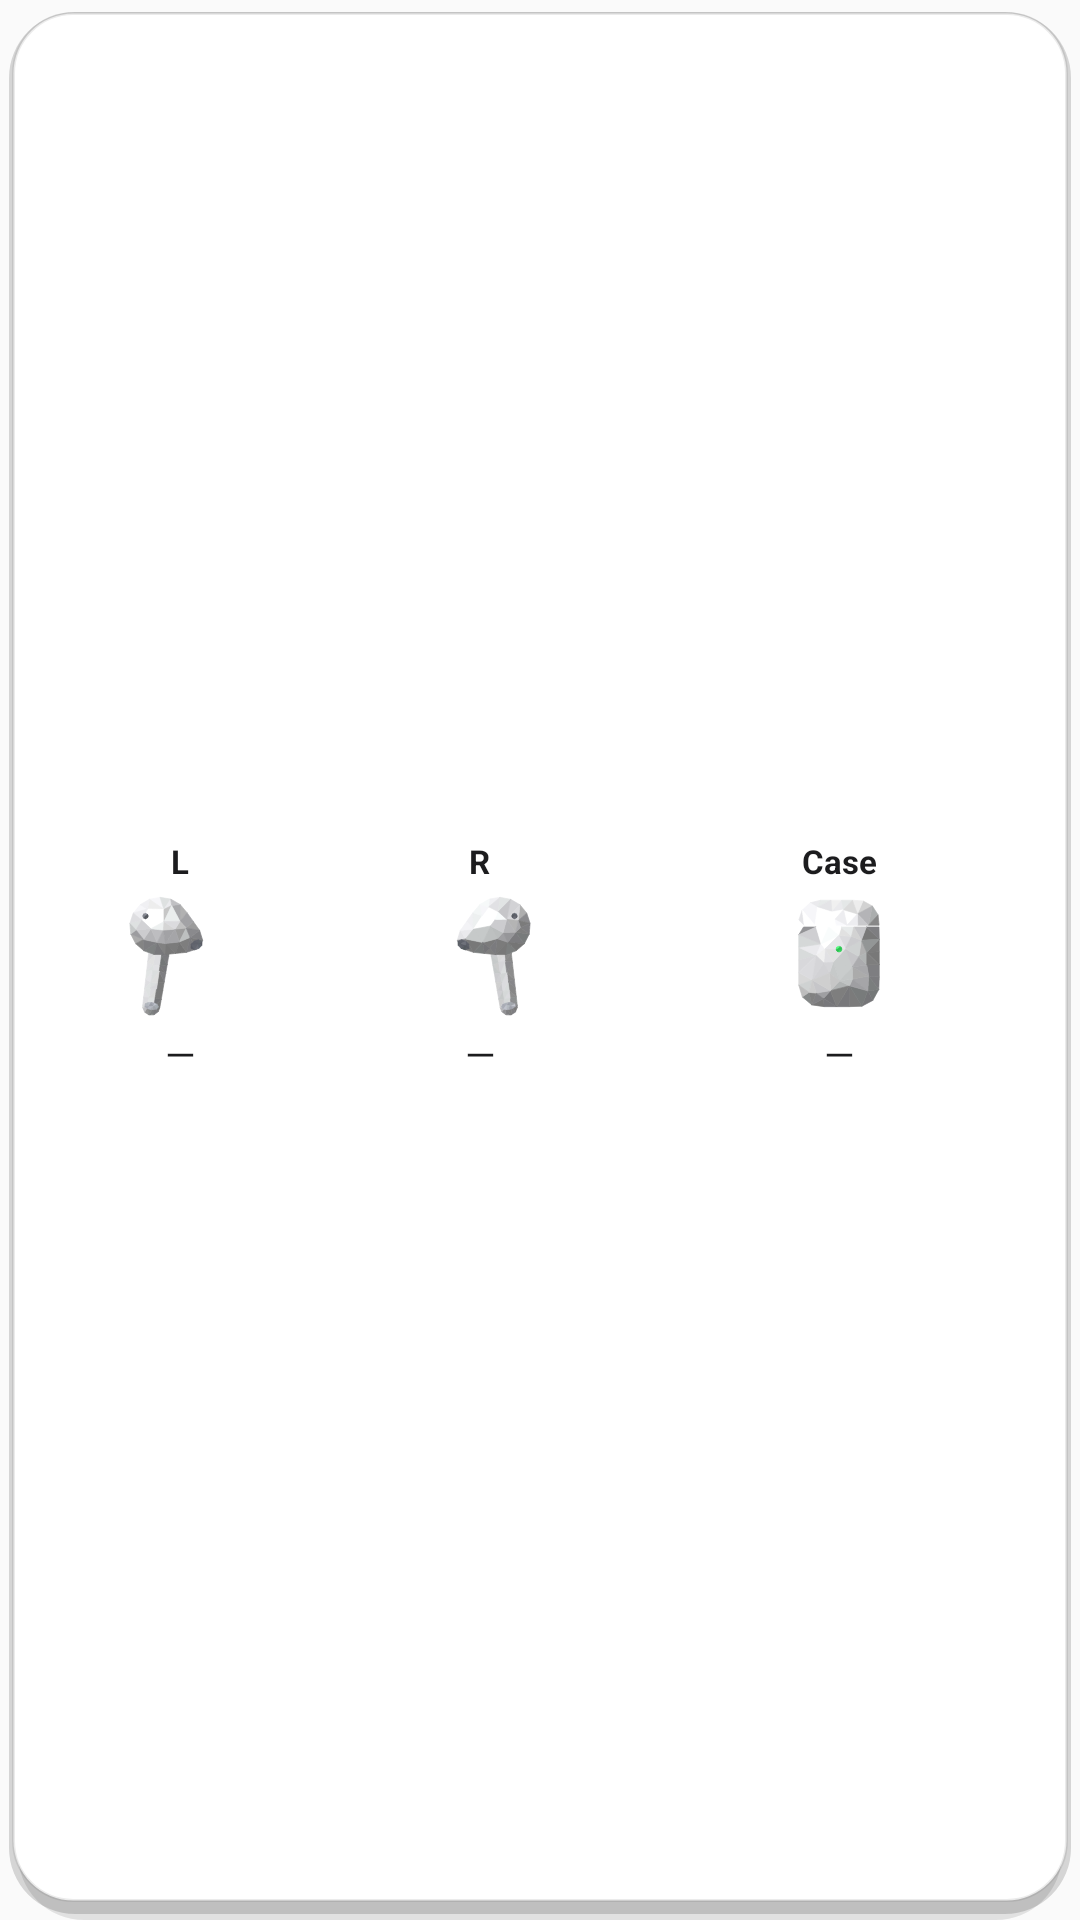

Named icons in this screenshot (1080x1920) and their centers, (x=x, y=y):
pod left: (x=166, y=956)
pod right: (x=494, y=956)
